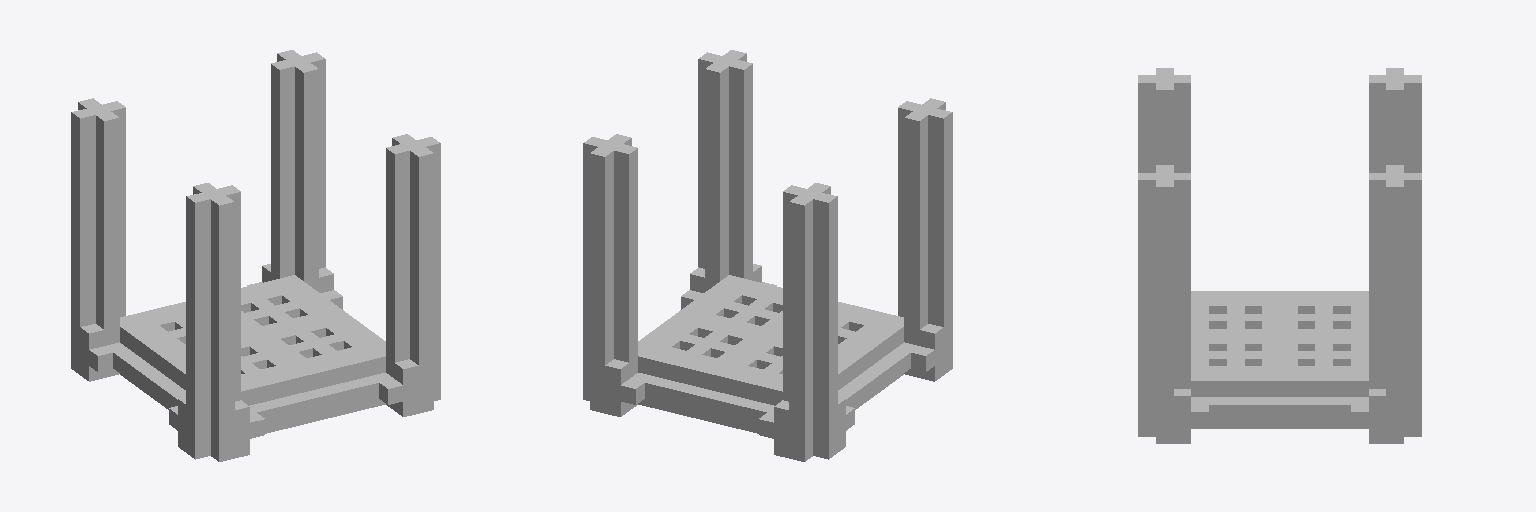
File: pole_scaffolding_cross_floor_steel.obj
The picture shows the model from 3 angles: view 1: azimuth 30°, elevation 25°; view 2: azimuth 150°, elevation 25°; view 3: azimuth 270°, elevation 25°; orthographic projection.
Parts seen in each view (by area): view 1: node_0_0_0.001; view 2: node_0_0_0.001; view 3: node_0_0_0.001.
Boxes of the visible parts, box(x1,y1,x2,y2) form: node_0_0_0.001: box(71, 50, 440, 461); node_0_0_0.001: box(583, 50, 952, 461); node_0_0_0.001: box(1138, 68, 1421, 443).
Size of the model in its own units: 1 by 1 by 1.